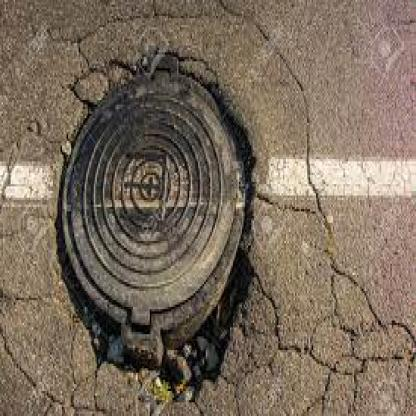closed manhole-not overflowing-: (52, 52, 260, 388)
